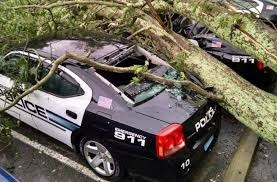Broken-glass: (97, 47, 179, 100)
